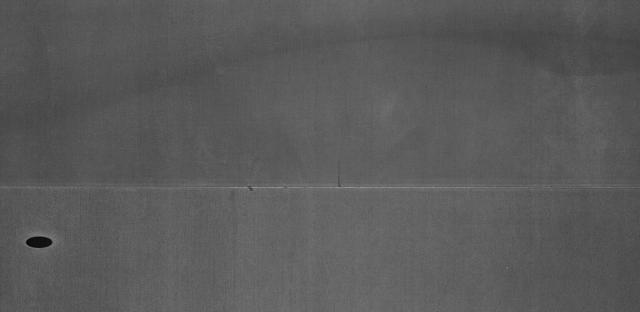punching_hole: (22, 230, 62, 252)
welding_line: (7, 179, 640, 198)
